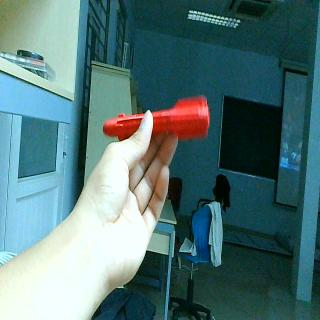Rocket: (101, 96, 210, 142)
